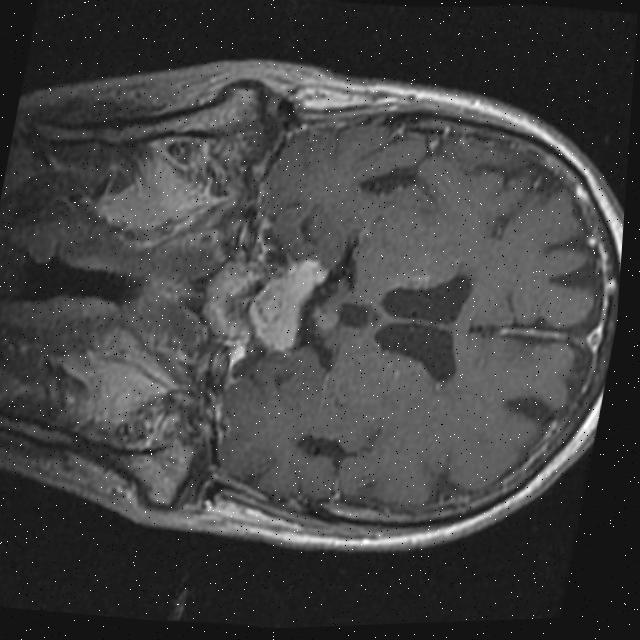Pituitary: (241, 252, 330, 357)
